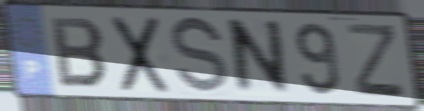9: (293, 21, 342, 98)
B: (48, 15, 112, 92)
N: (229, 17, 292, 98)
S: (169, 14, 231, 99)
X: (110, 14, 172, 95)
Z: (345, 21, 408, 101)
